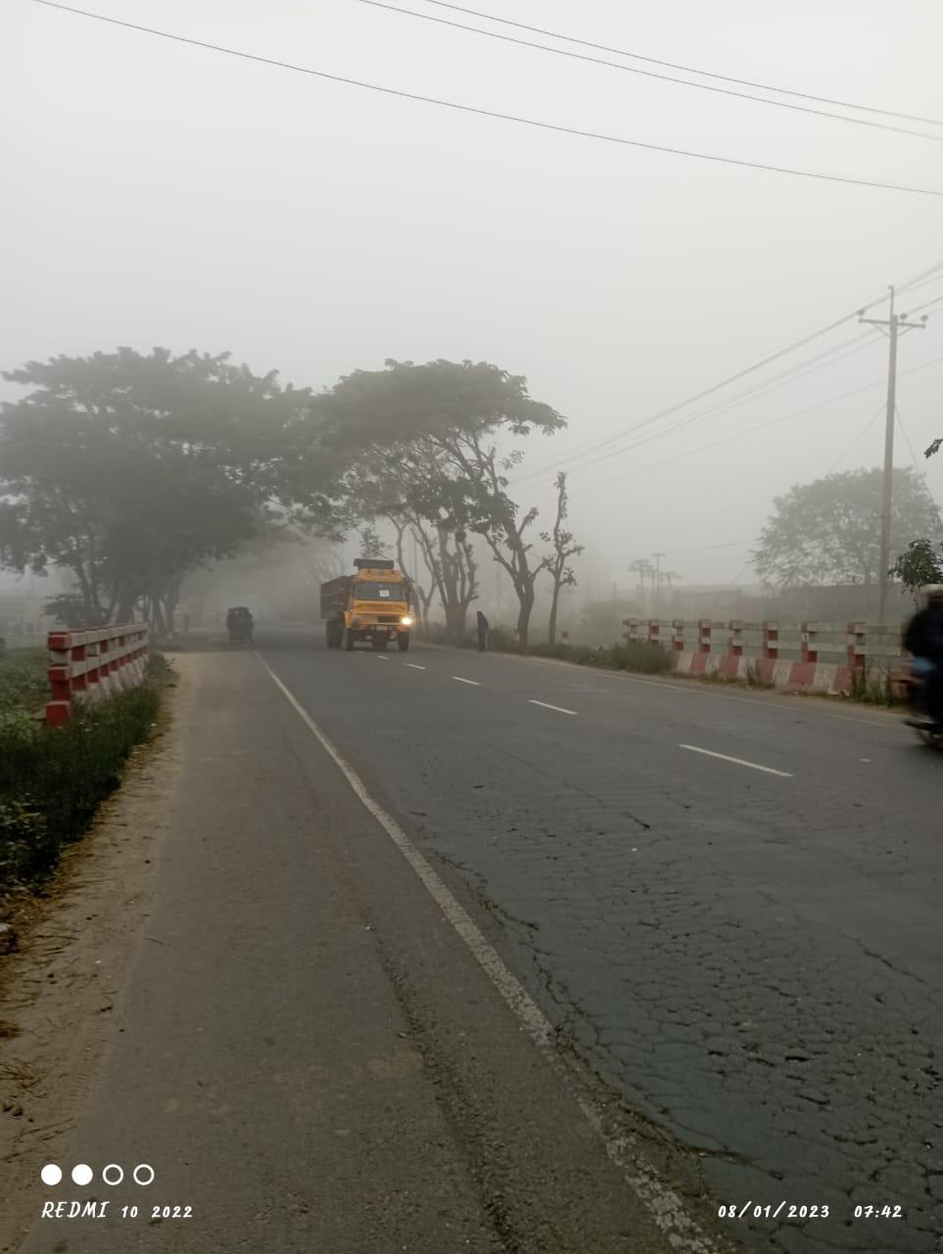Car: (225, 596, 257, 646)
Truck: (306, 552, 427, 657)
